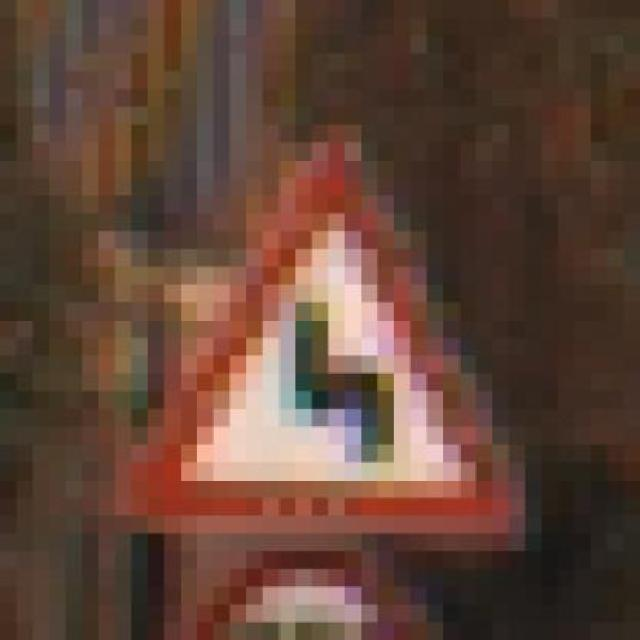Left Zig Zag Traffic: (115, 124, 542, 551)
